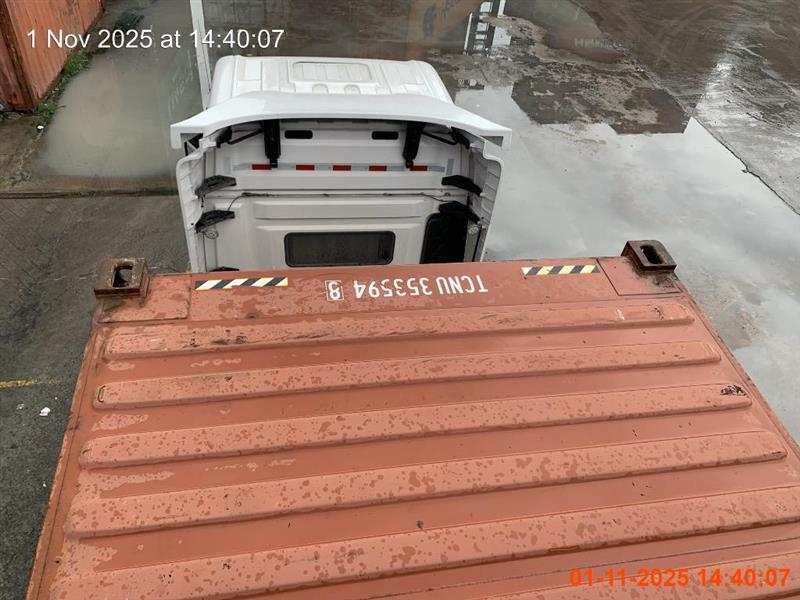crack: (170, 54, 513, 271)
